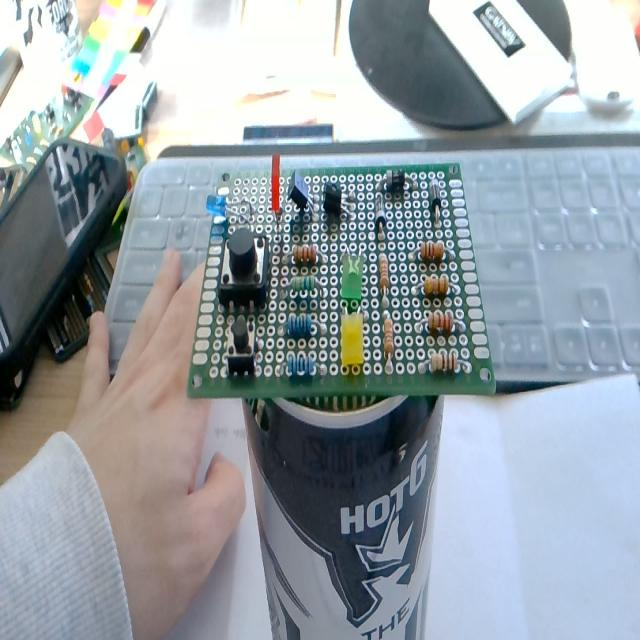diode: (376, 169, 416, 193), (374, 193, 387, 238), (430, 177, 442, 223)
led: (207, 190, 260, 226), (340, 313, 364, 366), (341, 254, 364, 302), (270, 152, 282, 228)
resistor: (286, 351, 316, 377), (288, 313, 314, 337), (428, 310, 454, 334), (383, 317, 395, 369), (432, 350, 458, 373), (290, 274, 317, 294), (421, 240, 444, 262), (424, 274, 448, 295), (294, 244, 317, 265), (379, 255, 389, 290)
switch: (218, 227, 270, 309), (225, 315, 259, 377)
transistor: (321, 170, 356, 226), (285, 170, 319, 223)
